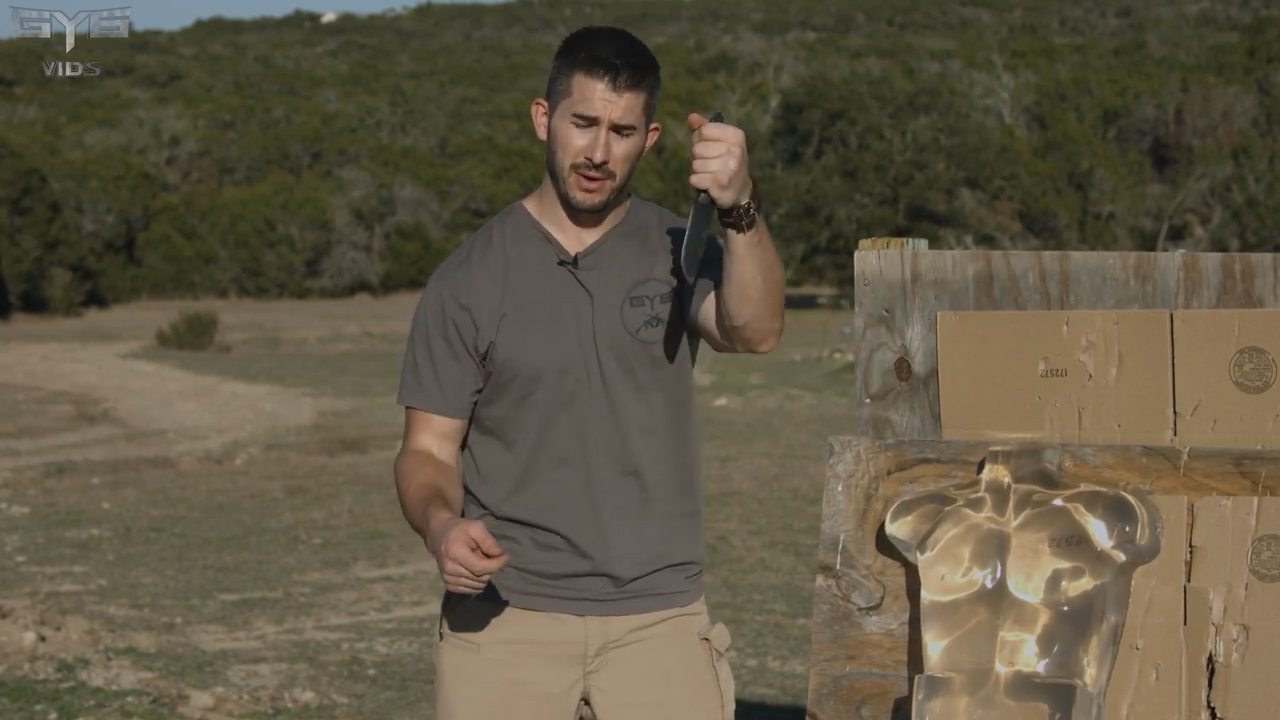knife: (669, 115, 747, 294)
